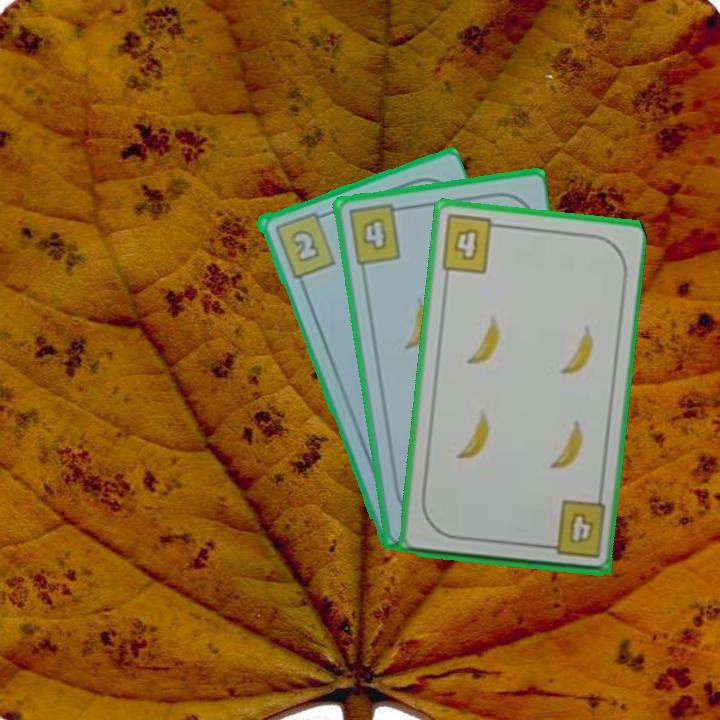2b: (270, 208, 338, 281)
4b: (437, 211, 506, 277), (539, 497, 608, 562), (344, 201, 407, 268)
